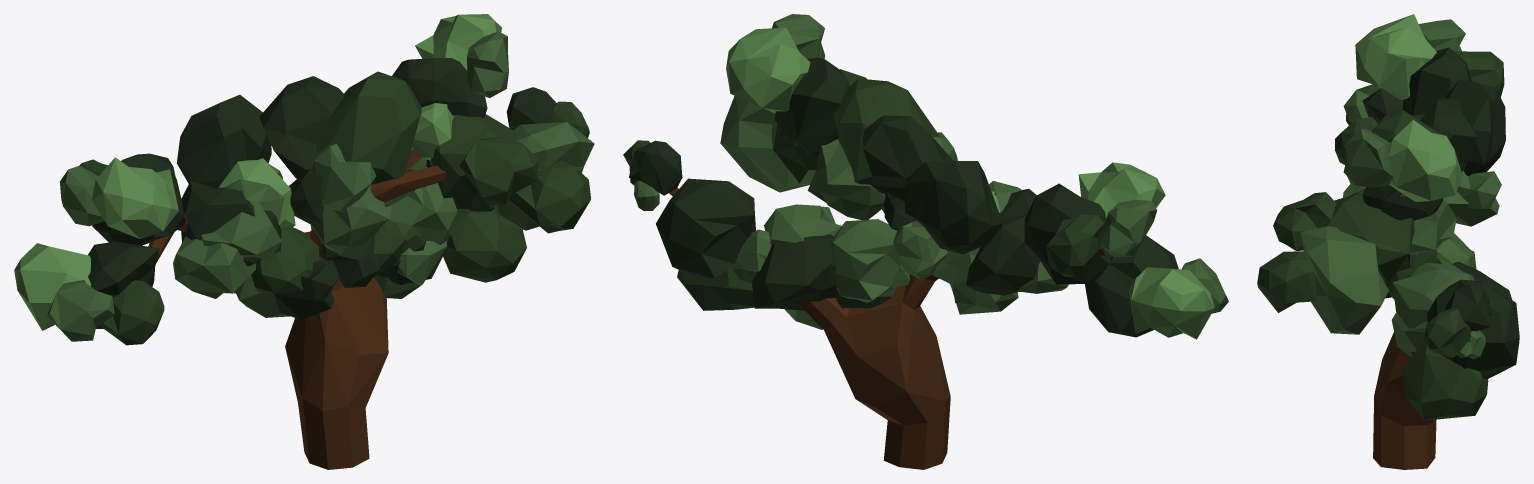
The model's file is Baum_Hintergrund.fbx.
The picture shows the model from 3 angles, left to right: view 1: azimuth 30°, elevation 25°; view 2: azimuth 150°, elevation 25°; view 3: azimuth 270°, elevation 25°; orthographic projection. The views are drawn at different scales.
Visible parts, largest first — view 1: Cube, Icosphere.025, Icosphere.041, Icosphere.018, Icosphere.042, Icosphere.032, Icosphere.005, Icosphere.004, Icosphere.012, Icosphere.015, Icosphere.021, Icosphere.016 (+25 smaller); view 2: Cube, Icosphere.030, Icosphere.041, Icosphere.022, Icosphere.038, Icosphere.034, Icosphere.012, Icosphere.025, Icosphere.017, Icosphere.042, Icosphere.021, Icosphere.007 (+17 smaller); view 3: Icosphere.007, Cube, Icosphere.032, Icosphere.022, Icosphere.018, Icosphere.006, Icosphere.030, Icosphere.041, Icosphere.037, Icosphere.004, Icosphere.000, Icosphere.023 (+18 smaller).
Boxes of the visible parts, left/top/right/bottom form: Cube: left=148, top=149, right=446, bottom=469; Icosphere.025: left=316, top=71, right=421, bottom=184; Icosphere.041: left=176, top=94, right=271, bottom=187; Icosphere.018: left=92, top=157, right=178, bottom=239; Icosphere.042: left=260, top=76, right=344, bottom=178; Icosphere.032: left=443, top=208, right=526, bottom=282; Icosphere.005: left=459, top=136, right=538, bottom=205; Icosphere.004: left=509, top=161, right=590, bottom=233; Icosphere.012: left=14, top=243, right=91, bottom=330; Icosphere.015: left=201, top=179, right=284, bottom=260; Icosphere.021: left=392, top=58, right=487, bottom=118; Icosphere.016: left=173, top=236, right=255, bottom=298; Cube: left=669, top=188, right=1105, bottom=469; Icosphere.030: left=656, top=178, right=755, bottom=278; Icosphere.041: left=905, top=161, right=1002, bottom=254; Icosphere.022: left=726, top=27, right=810, bottom=111; Icosphere.038: left=752, top=234, right=838, bottom=310; Icosphere.034: left=831, top=219, right=909, bottom=302; Icosphere.012: left=1129, top=267, right=1214, bottom=339; Icosphere.025: left=833, top=78, right=940, bottom=194; Icosphere.017: left=966, top=188, right=1039, bottom=295; Icosphere.042: left=862, top=115, right=953, bottom=201; Icosphere.021: left=775, top=57, right=849, bottom=155; Icosphere.007: left=720, top=96, right=815, bottom=192; Icosphere.007: left=1300, top=226, right=1388, bottom=334; Cube: left=1373, top=193, right=1436, bottom=469; Icosphere.032: left=1401, top=339, right=1488, bottom=419; Icosphere.022: left=1388, top=120, right=1462, bottom=201; Icosphere.018: left=1355, top=14, right=1436, bottom=99; Icosphere.006: left=1325, top=188, right=1414, bottom=283; Icosphere.030: left=1427, top=279, right=1519, bottom=379; Icosphere.041: left=1445, top=79, right=1505, bottom=176; Icosphere.037: left=1392, top=258, right=1474, bottom=328; Icosphere.004: left=1257, top=251, right=1317, bottom=312; Icosphere.000: left=1402, top=47, right=1471, bottom=114; Icosphere.023: left=1343, top=129, right=1392, bottom=187.
Bounding box in the file's own units: 703 × 474 × 283.
